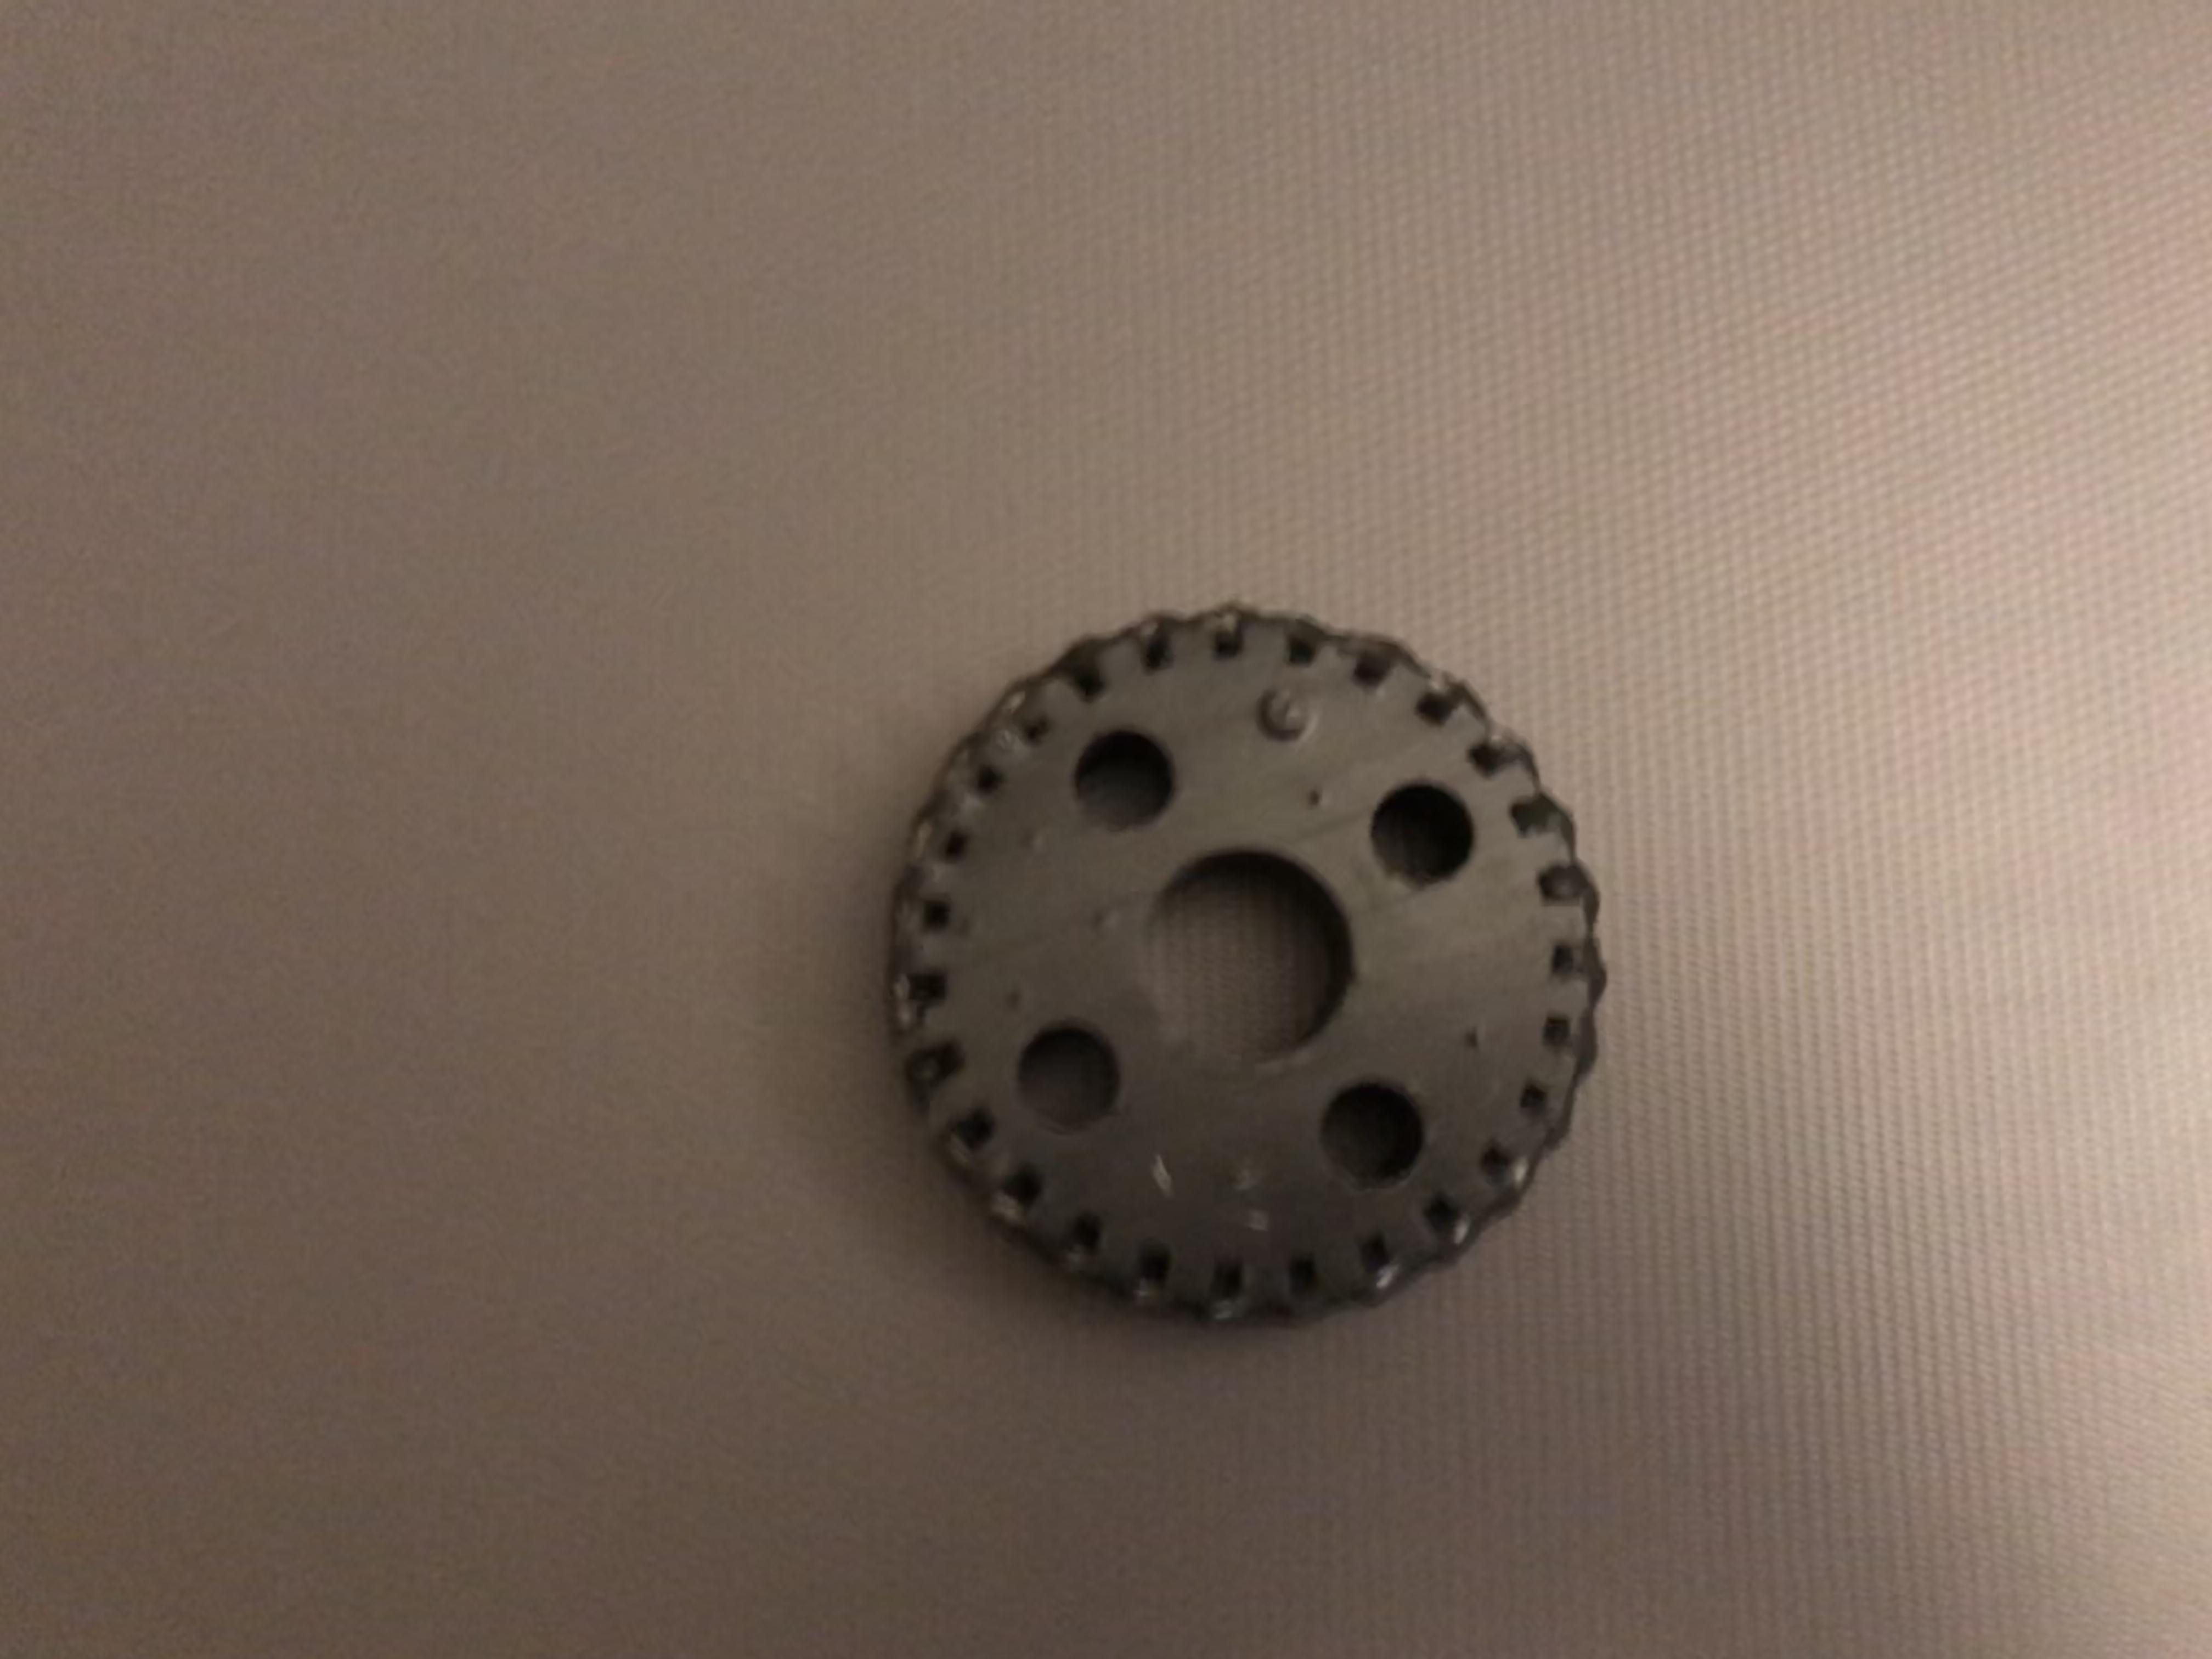Wheel: (864, 601, 1630, 1340)
